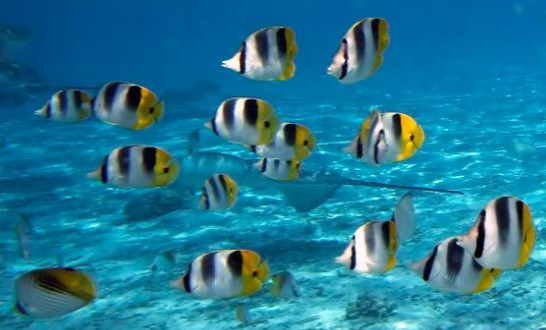fishRound: (455, 194, 535, 269), (1, 265, 96, 324), (409, 232, 493, 293), (168, 247, 268, 298), (342, 110, 430, 165), (220, 24, 300, 83), (325, 16, 392, 85), (85, 144, 179, 191), (81, 79, 165, 131), (203, 95, 279, 148), (334, 218, 398, 276), (33, 85, 91, 124), (253, 123, 315, 159), (197, 171, 239, 215), (362, 109, 388, 169), (251, 156, 301, 182)
